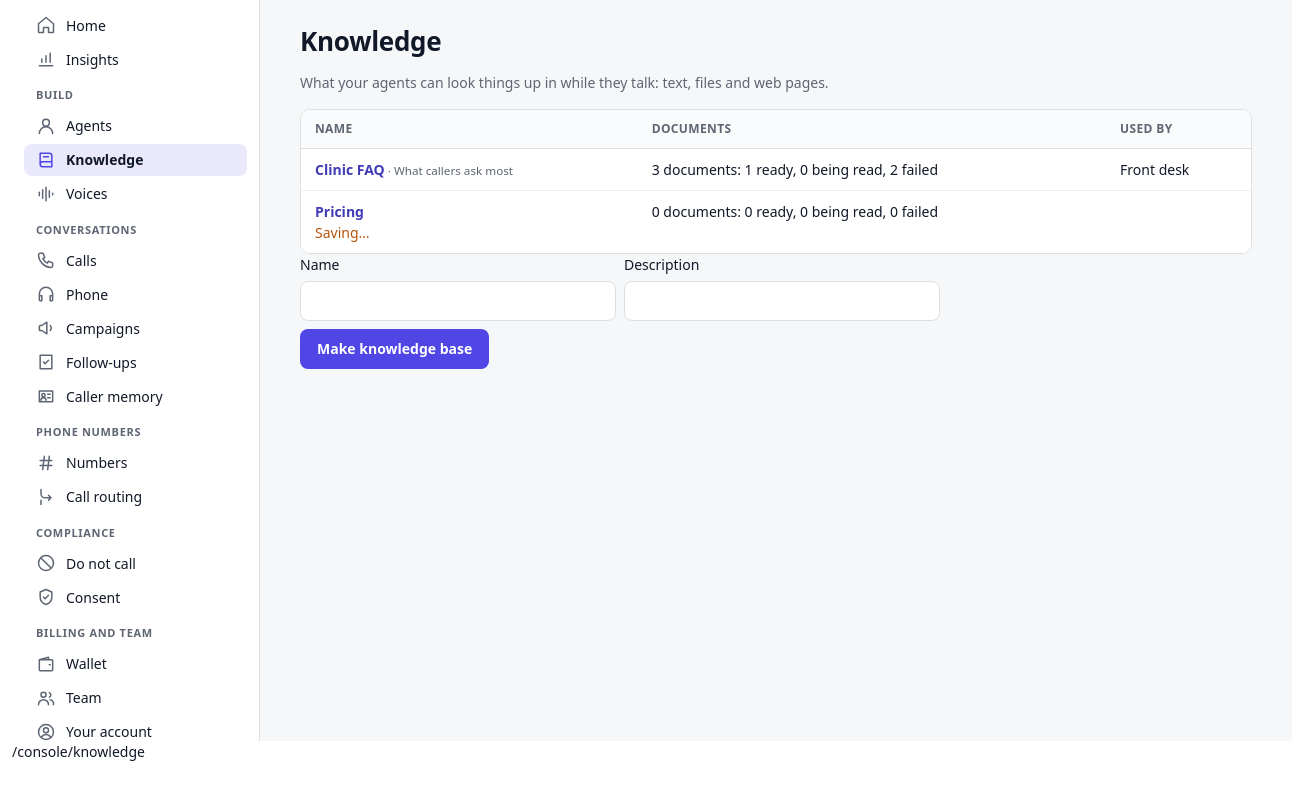
the knowledge bases › lists each base with its documents and the agents using it, and makes a new one
Click the button "Make knowledge base" at (395, 348), box x1=300 y1=328 x2=489 y2=368
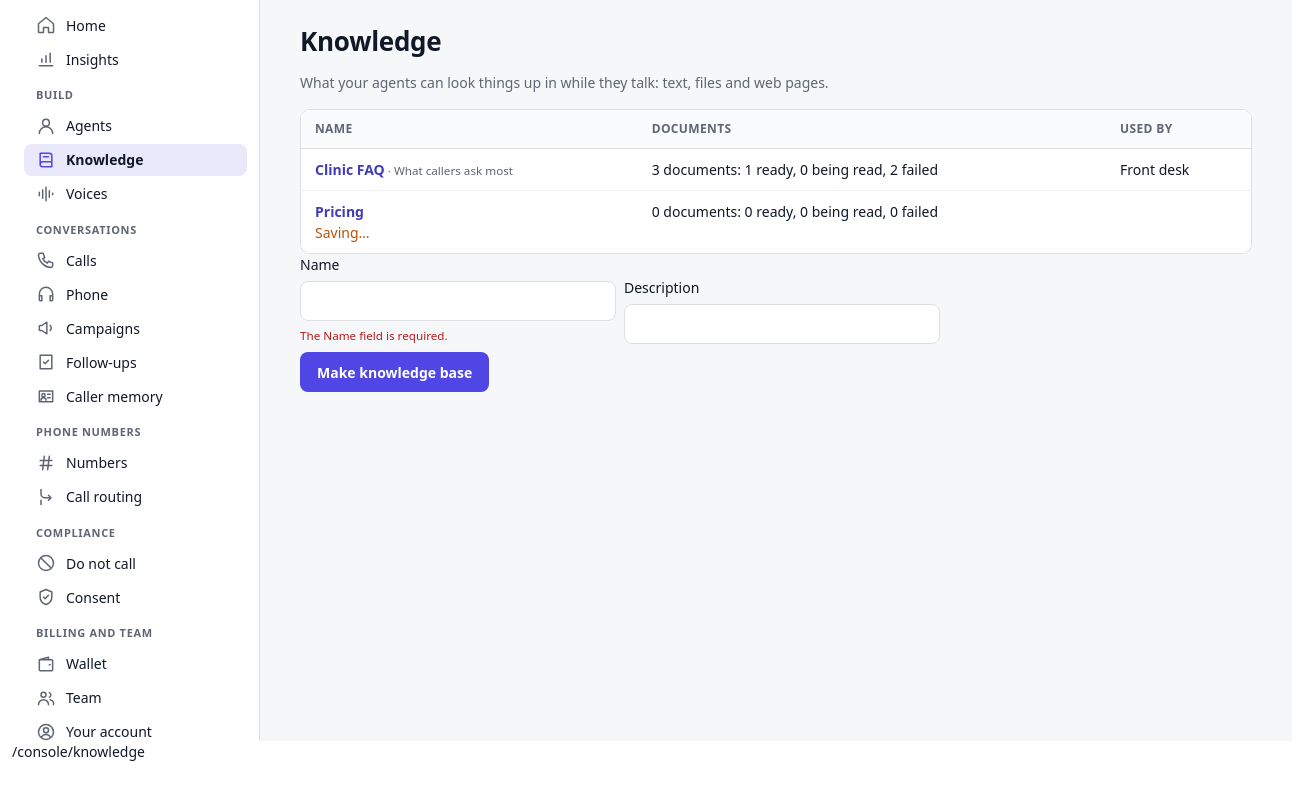
Check: the text "The Name field is required." is shown, box x1=300 y1=328 x2=448 y2=342
Type " Insurance " into the field labelled "Name" at (458, 300), box x1=300 y1=280 x2=616 y2=320
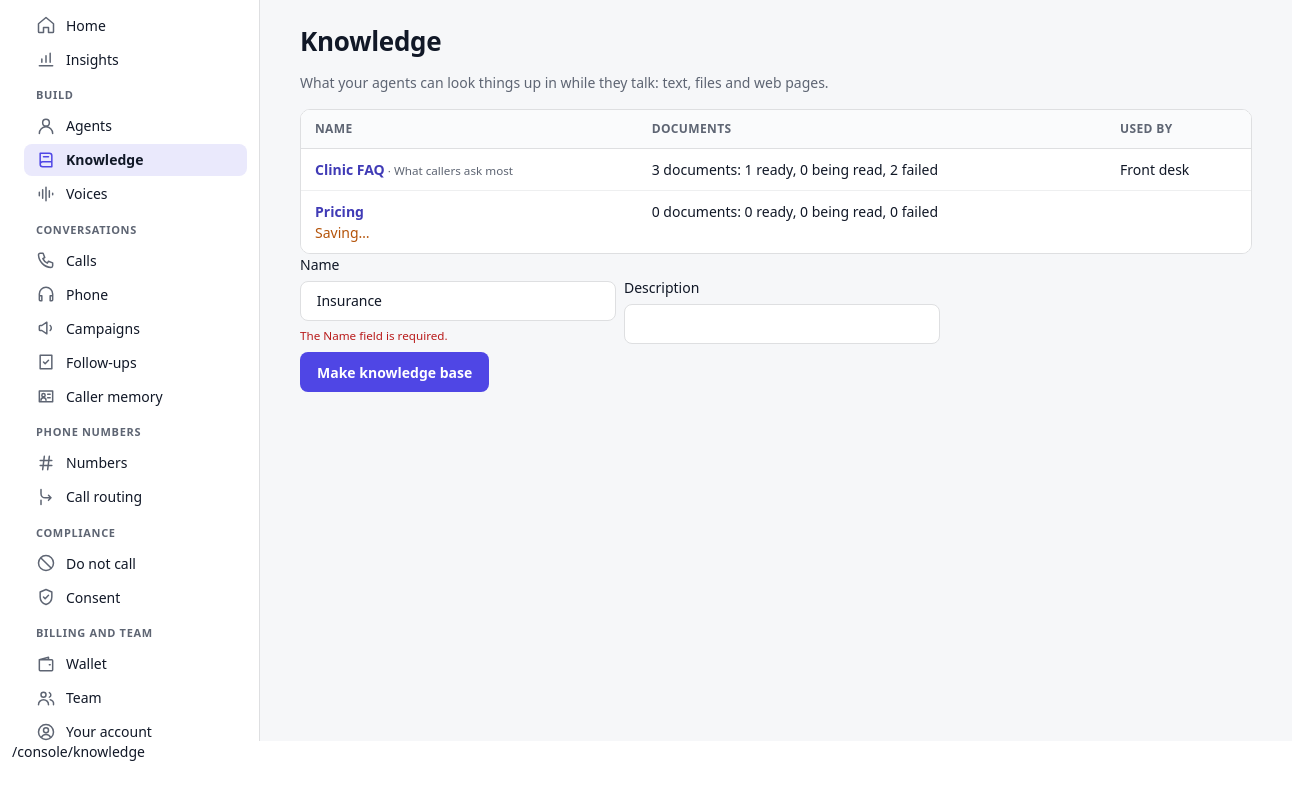
Click the button "Make knowledge base" at (395, 372), box x1=300 y1=352 x2=489 y2=392
(page scrolled)
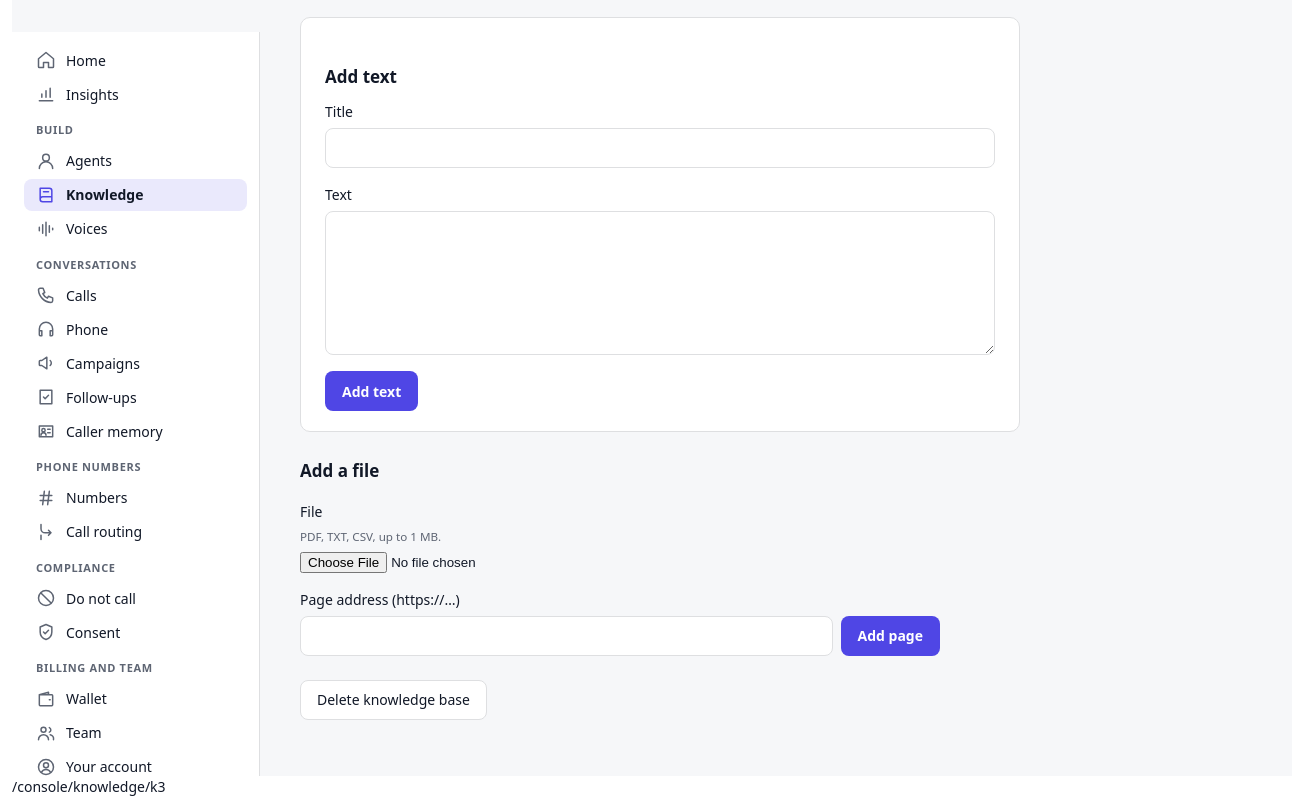
Check: the text with test id "where" reads "/console/knowledge/k3", box x1=12 y1=777 x2=166 y2=796
